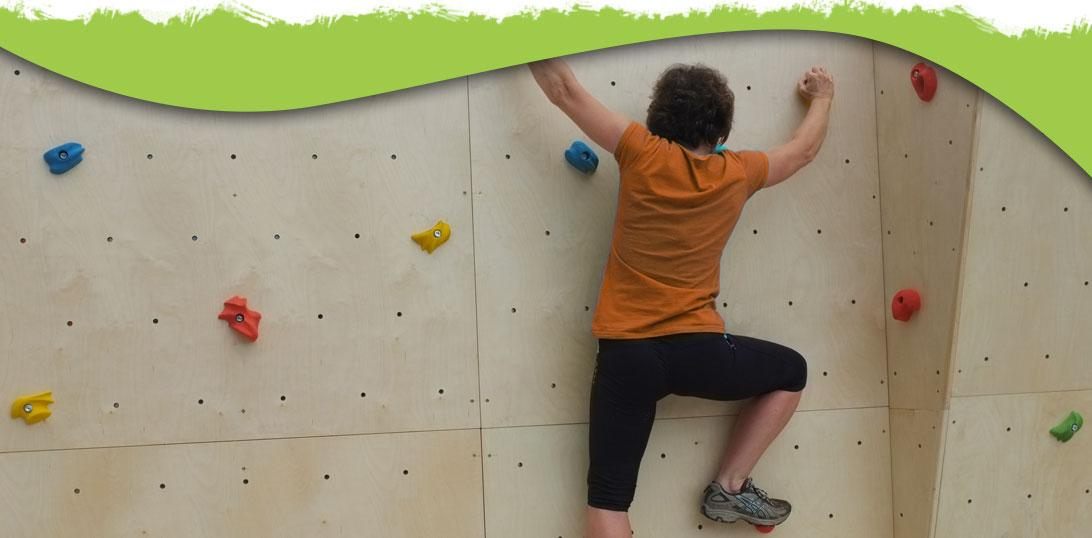black-hold: (213, 288, 273, 345), (4, 387, 61, 431), (408, 212, 457, 259), (41, 136, 92, 180), (560, 136, 605, 182), (1047, 406, 1089, 448), (907, 59, 941, 105), (892, 288, 921, 322)
